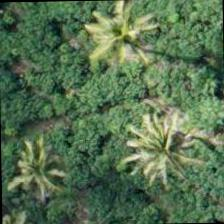Kelapa_Sawit: (118, 103, 210, 195), (79, 0, 171, 81), (0, 126, 76, 217)
